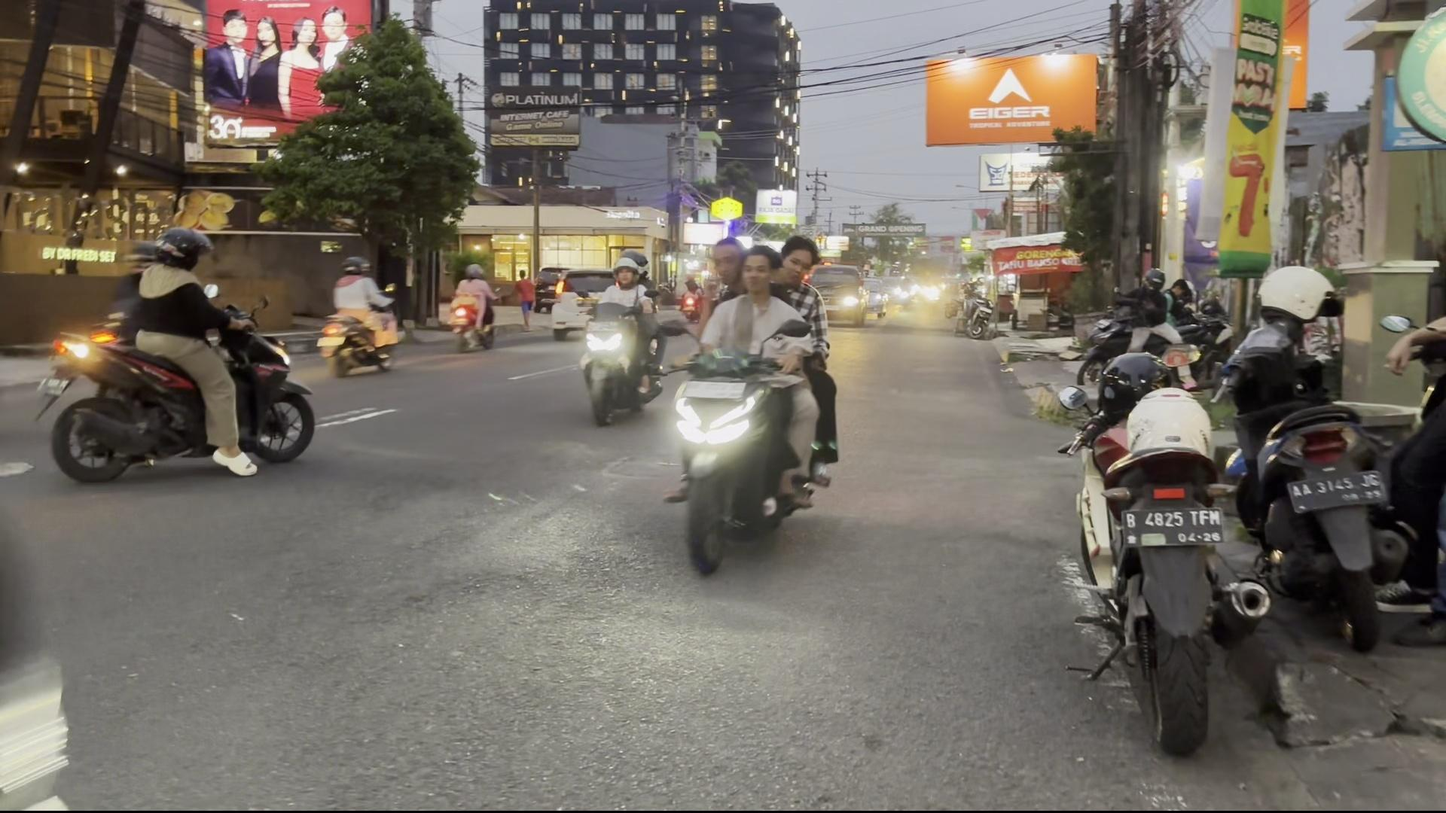nohelm: (738, 243, 783, 297), (779, 236, 824, 287)
riding: (662, 234, 853, 577)
